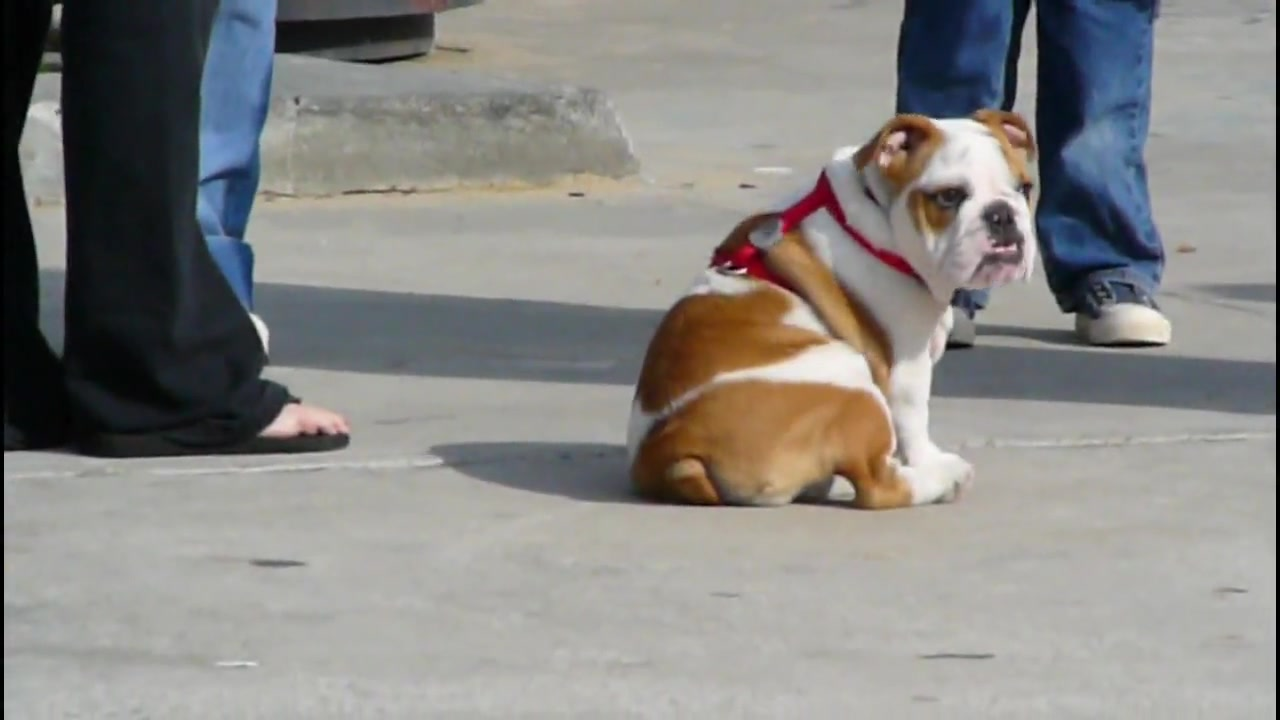dog: (631, 110, 1046, 505)
